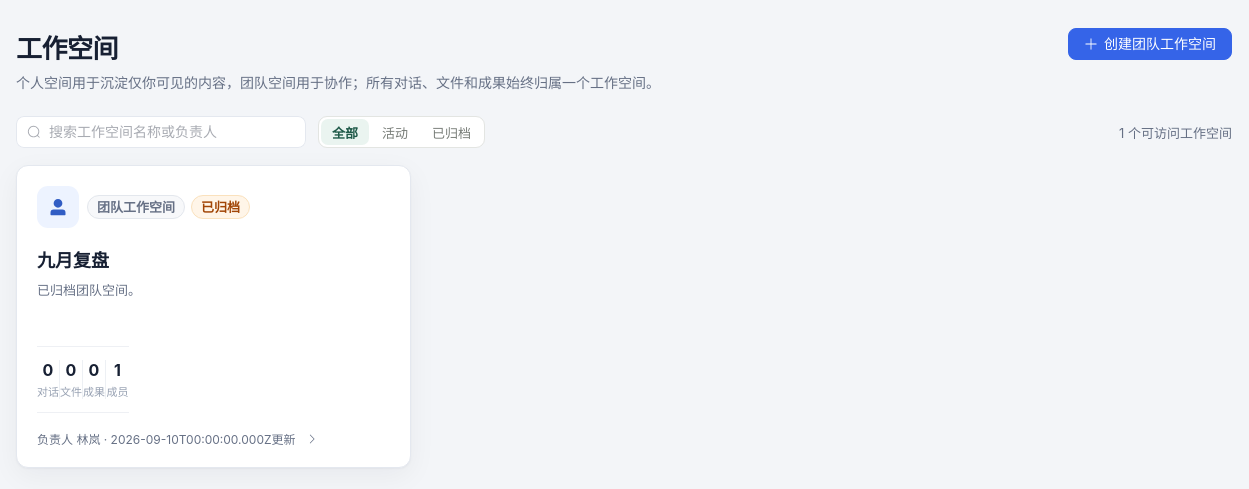
Test case: WorkspacesView 归档筛选与归档卡片（design §2.1 / §6） › clears the previous filter results and offers a retry when a filter request fails
The image size is (1249, 489).
Click the tab with test id "workspace-filter-archived". click: {"x": 452, "y": 132}
box: [421,119,482,145]
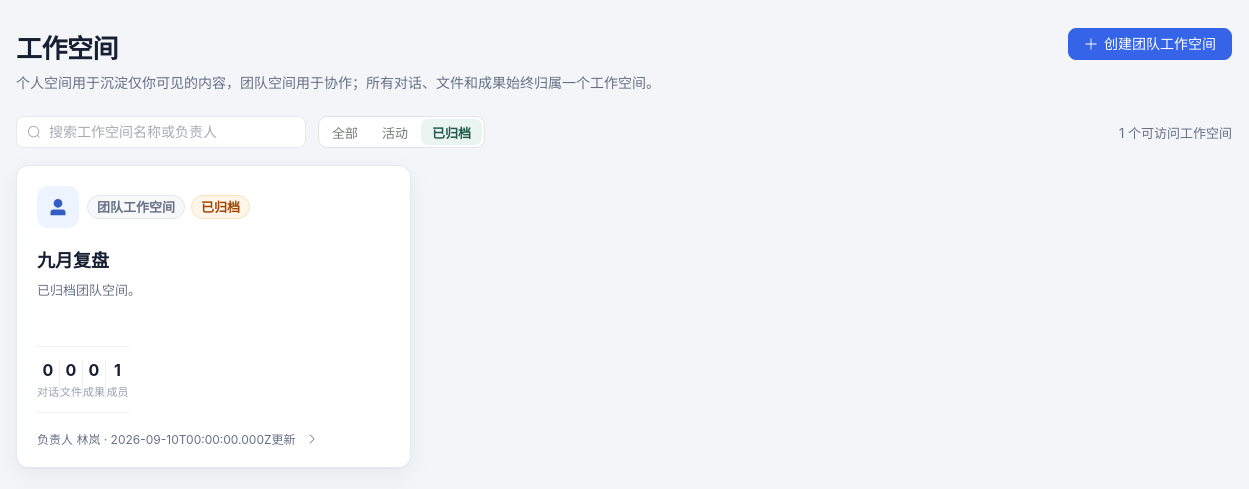
Check: the text "九月复盘" is shown, box [37,246,109,272]
Click the tab with test id "workspace-filter-active". click: {"x": 395, "y": 132}
box: [371,119,419,145]
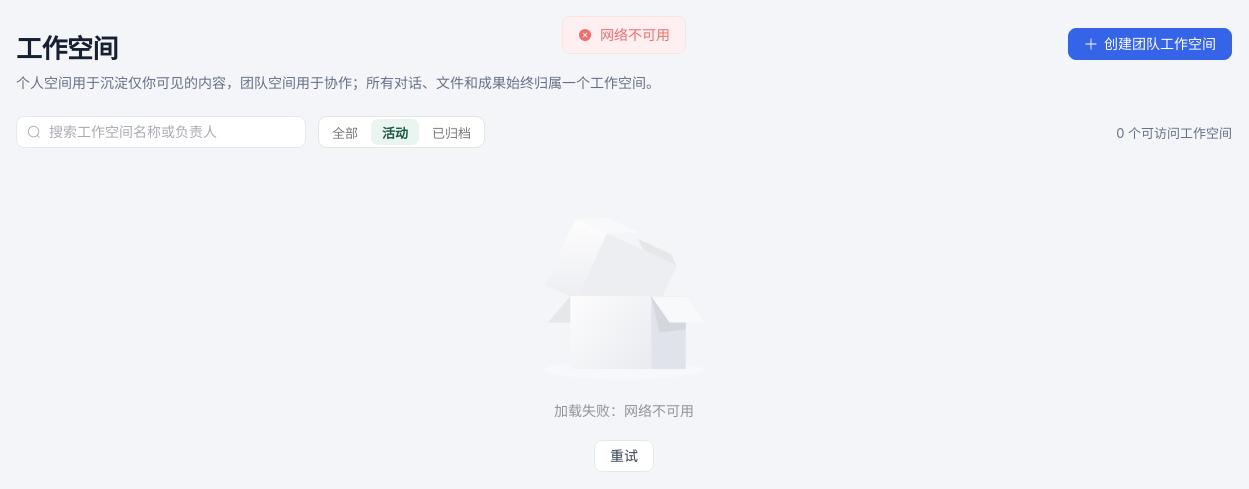
Check: the text "九月复盘" is gone
Check: the element with test id "workspace-filter-error" is shown, box [544,205,704,472]
Check: the text "网络不可用" is shown, box [554,402,694,419]
Click the button "重试". click: {"x": 624, "y": 456}
box: [594,440,654,472]
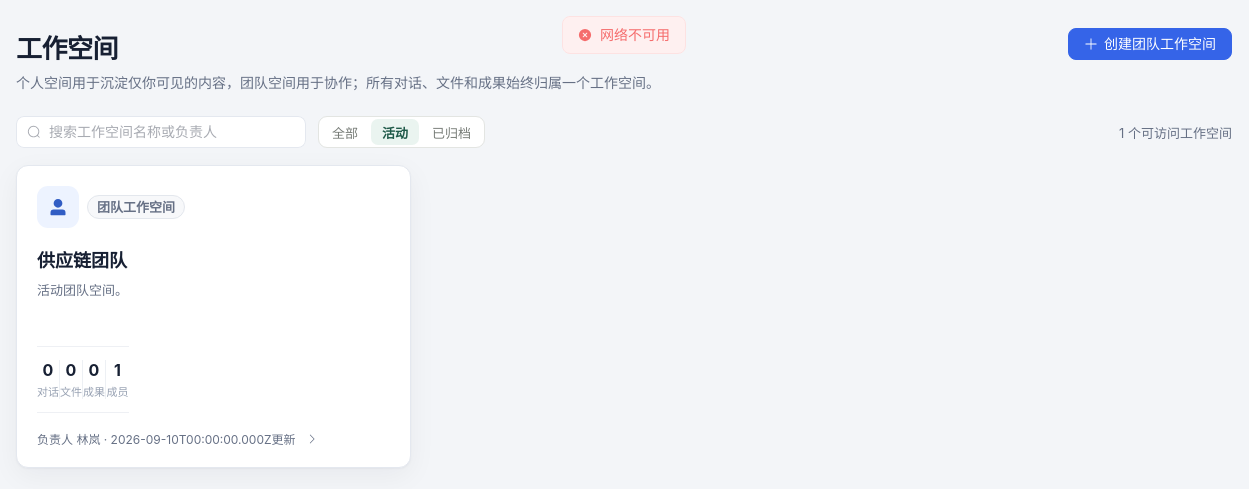
Check: the text "供应链团队" is shown, box [37,246,127,272]
